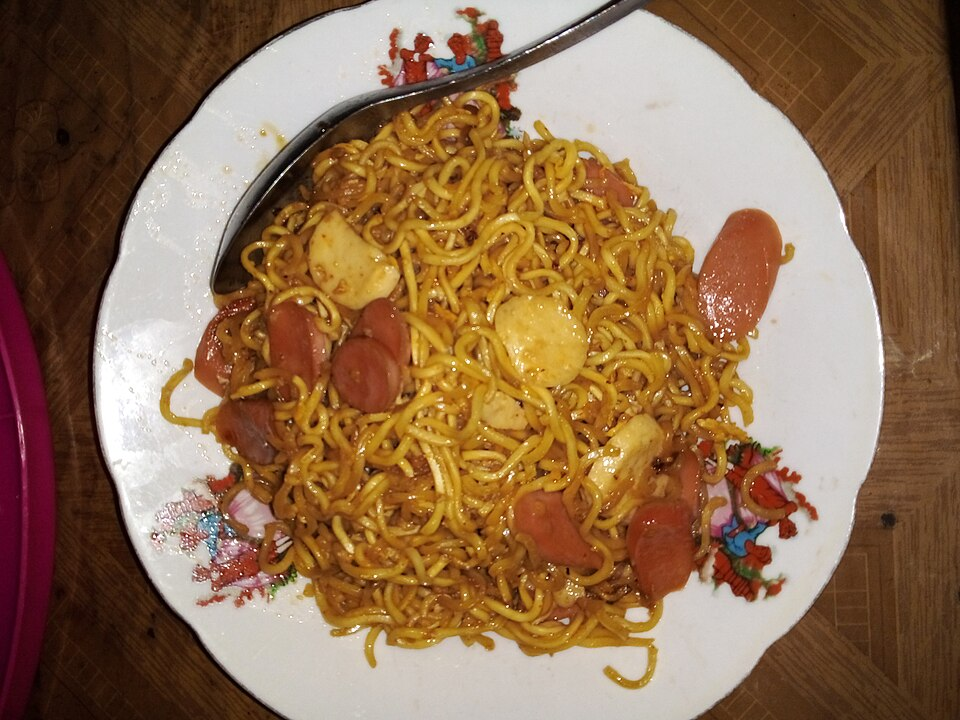Mie Goreng: (115, 94, 845, 626)
